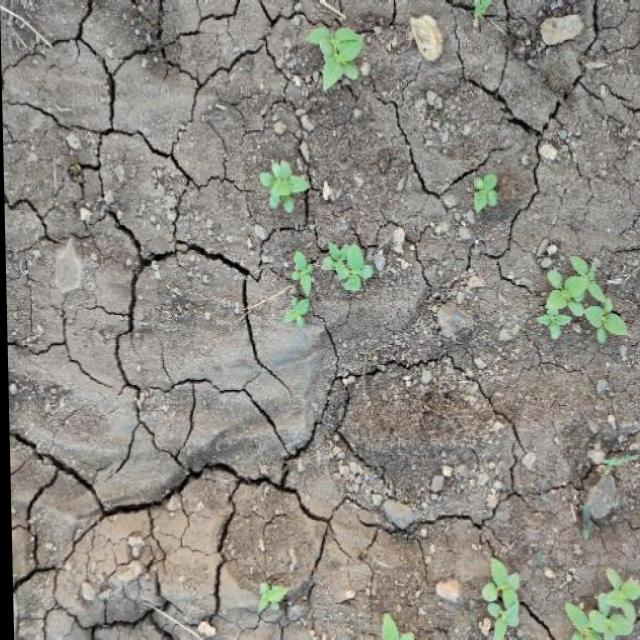crop: (528, 246, 633, 365), (269, 240, 377, 318), (295, 13, 377, 98), (455, 158, 512, 232), (250, 154, 315, 214), (464, 562, 521, 620)
